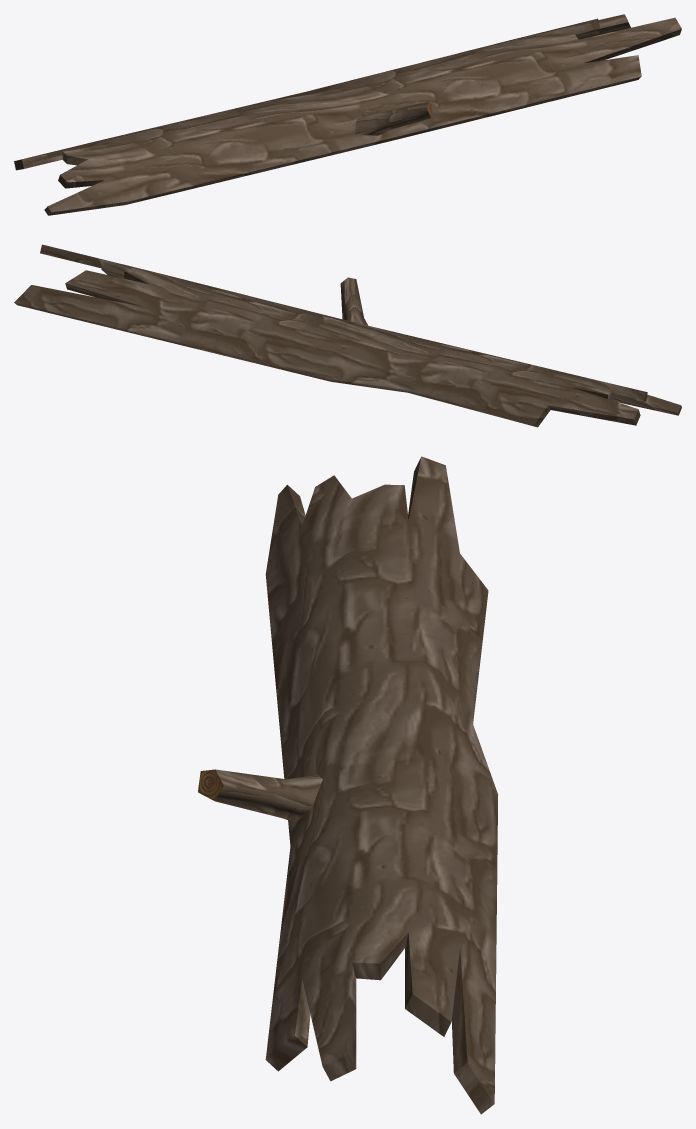
The model's file is Tree_fall05.FBX.
3 views of the same model, one above another, from view 1: azimuth 30°, elevation 25°; view 2: azimuth 150°, elevation 25°; view 3: azimuth 270°, elevation 25° (orthographic). The views are drawn at different scales.
Visible parts, largest first — view 1: Tree_fall05; view 2: Tree_fall05; view 3: Tree_fall05.
Boxes of the visible parts, left/top/right/bottom form: Tree_fall05: left=14, top=14, right=681, bottom=215; Tree_fall05: left=14, top=244, right=681, bottom=427; Tree_fall05: left=198, top=456, right=497, bottom=1114.
Size of the model in its own units: 5.82 by 0.4528 by 1.21.
